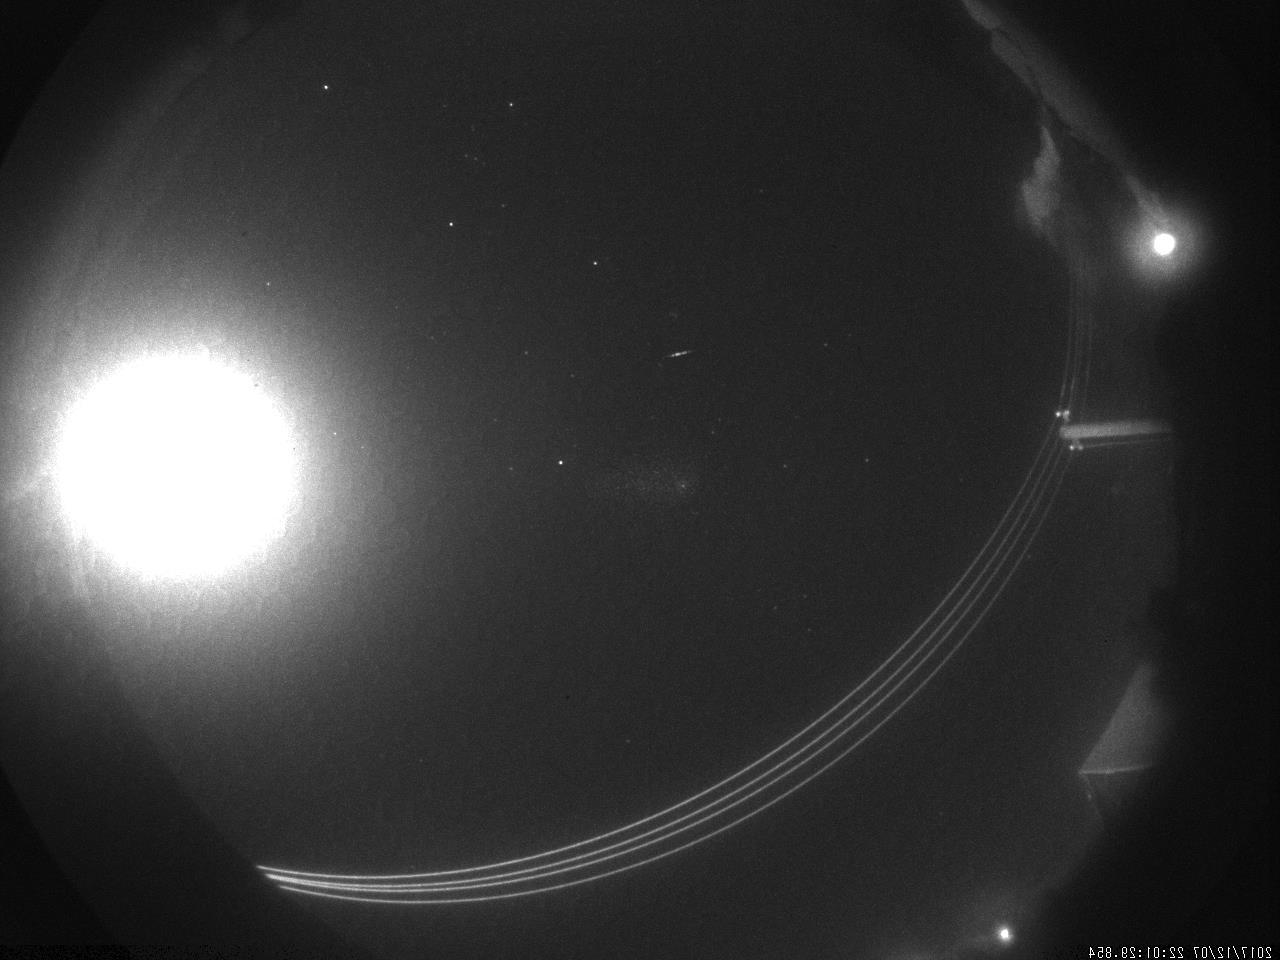meteor: (664, 340, 701, 366)
